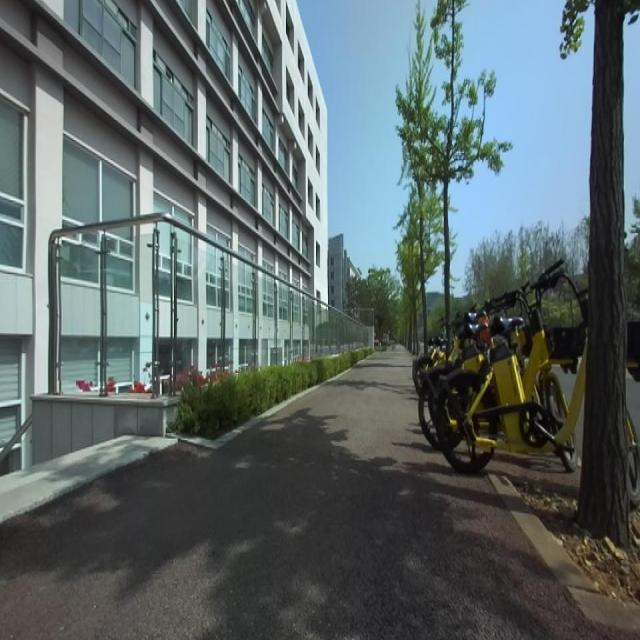sidewalk: (1, 348, 618, 639)
